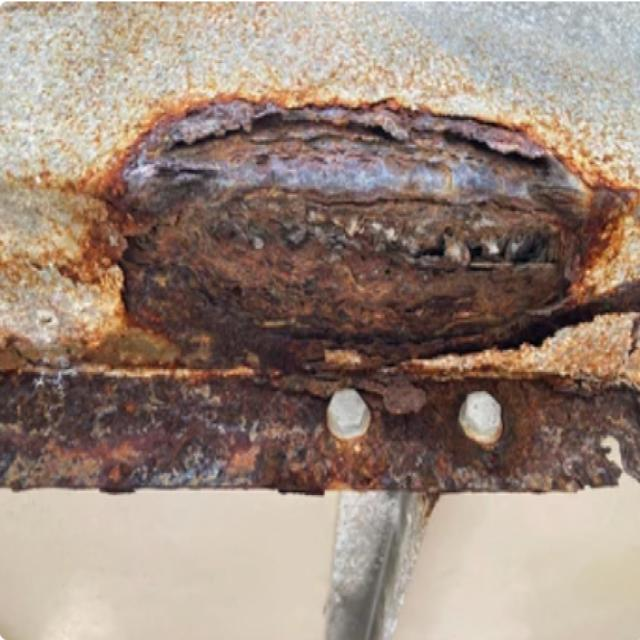corrosion: (3, 78, 638, 534)
